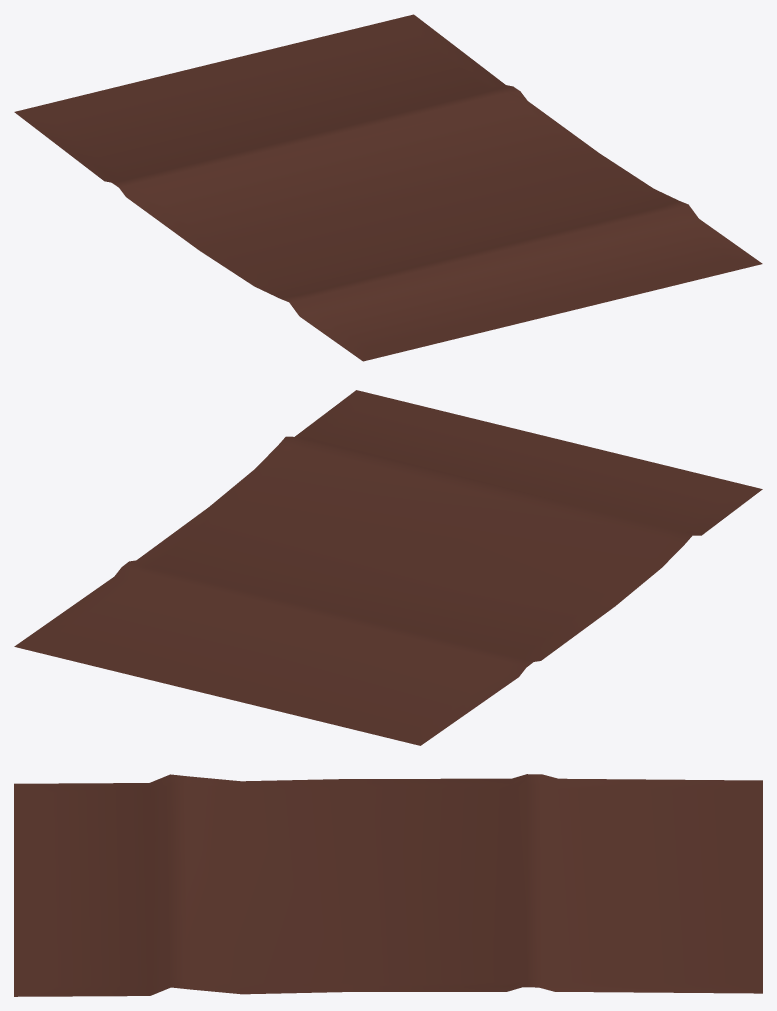
File: rug.glb
The picture shows the model from 3 angles, top to bottom: view 1: azimuth 30°, elevation 25°; view 2: azimuth 150°, elevation 25°; view 3: azimuth 270°, elevation 25°; orthographic projection. The views are drawn at different scales.
Visible parts, largest first — view 1: Carpet_1; view 2: Carpet_1; view 3: Carpet_1.
Part boxes in pixels (box(x1,y1,x2,y2)): Carpet_1: box(14, 14, 762, 361); Carpet_1: box(14, 390, 762, 745); Carpet_1: box(14, 774, 762, 996).
Bounding box in the file's own units: 213 × 3.67 × 309.
